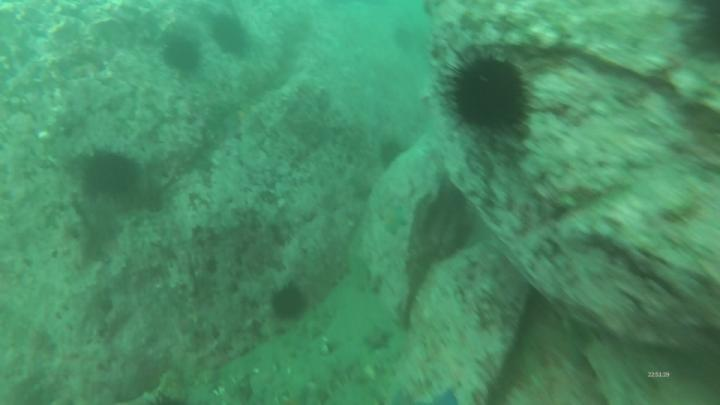echinus: (448, 64, 526, 127), (80, 152, 136, 189), (210, 17, 250, 57), (163, 38, 198, 70), (274, 290, 302, 316)
starfish: (361, 326, 393, 353), (383, 210, 405, 234)
